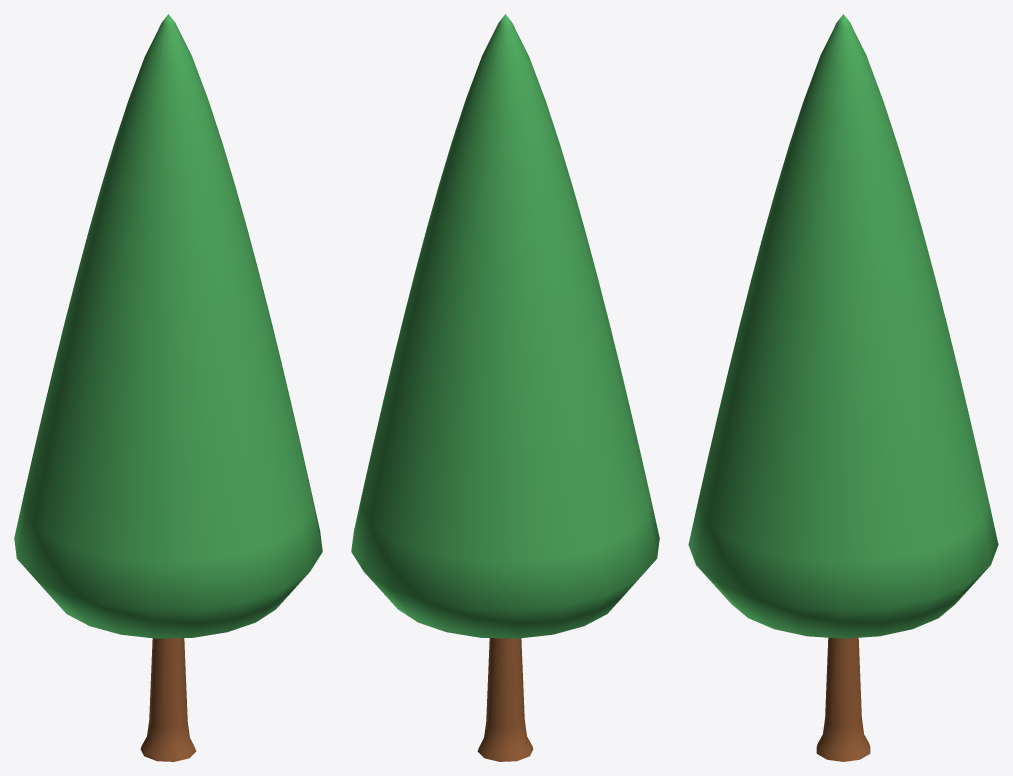
File: arvore_conica.glb
3 renders of one model, left to right at view 1: azimuth 30°, elevation 25°; view 2: azimuth 150°, elevation 25°; view 3: azimuth 270°, elevation 25°, orthographic.
Parts seen in each view (by area): view 1: arvore_conica; view 2: arvore_conica; view 3: arvore_conica.
Boxes of the visible parts, x1,y1,x2,y2 form: arvore_conica: [14, 14, 322, 761]; arvore_conica: [351, 14, 659, 761]; arvore_conica: [688, 14, 998, 761].
Bounding box in the file's own units: 2.41 × 6.3 × 2.41.
1 material, 1 textured.
